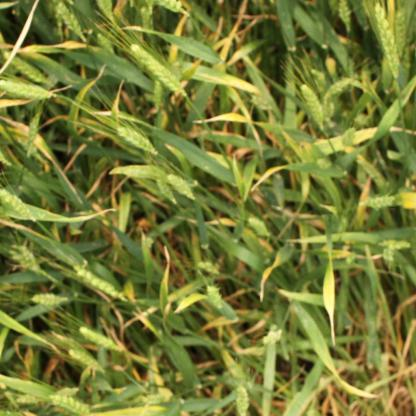whd: (129, 42, 186, 97), (71, 265, 129, 303), (374, 3, 400, 78), (2, 49, 46, 84), (0, 76, 55, 102), (77, 324, 122, 354), (298, 83, 325, 129), (8, 244, 46, 276), (204, 284, 237, 319), (323, 77, 351, 117), (53, 1, 84, 36), (394, 12, 413, 69), (115, 128, 155, 154), (4, 190, 35, 221), (154, 168, 178, 206), (67, 348, 105, 372), (50, 394, 90, 416), (166, 173, 195, 200), (13, 135, 42, 162), (28, 110, 42, 156), (307, 69, 331, 95), (247, 216, 273, 239), (361, 194, 398, 210), (232, 384, 250, 416), (30, 292, 66, 307), (95, 33, 115, 56), (337, 0, 352, 30), (262, 328, 283, 348), (96, 1, 117, 20), (151, 80, 165, 108), (140, 6, 154, 34), (376, 239, 411, 250), (156, 0, 184, 13), (251, 95, 273, 111), (196, 259, 218, 274), (142, 392, 165, 406), (16, 393, 42, 405), (342, 128, 353, 149), (57, 388, 80, 397), (0, 150, 12, 167), (339, 216, 350, 234), (384, 250, 395, 266), (345, 251, 356, 266), (318, 160, 332, 170)
